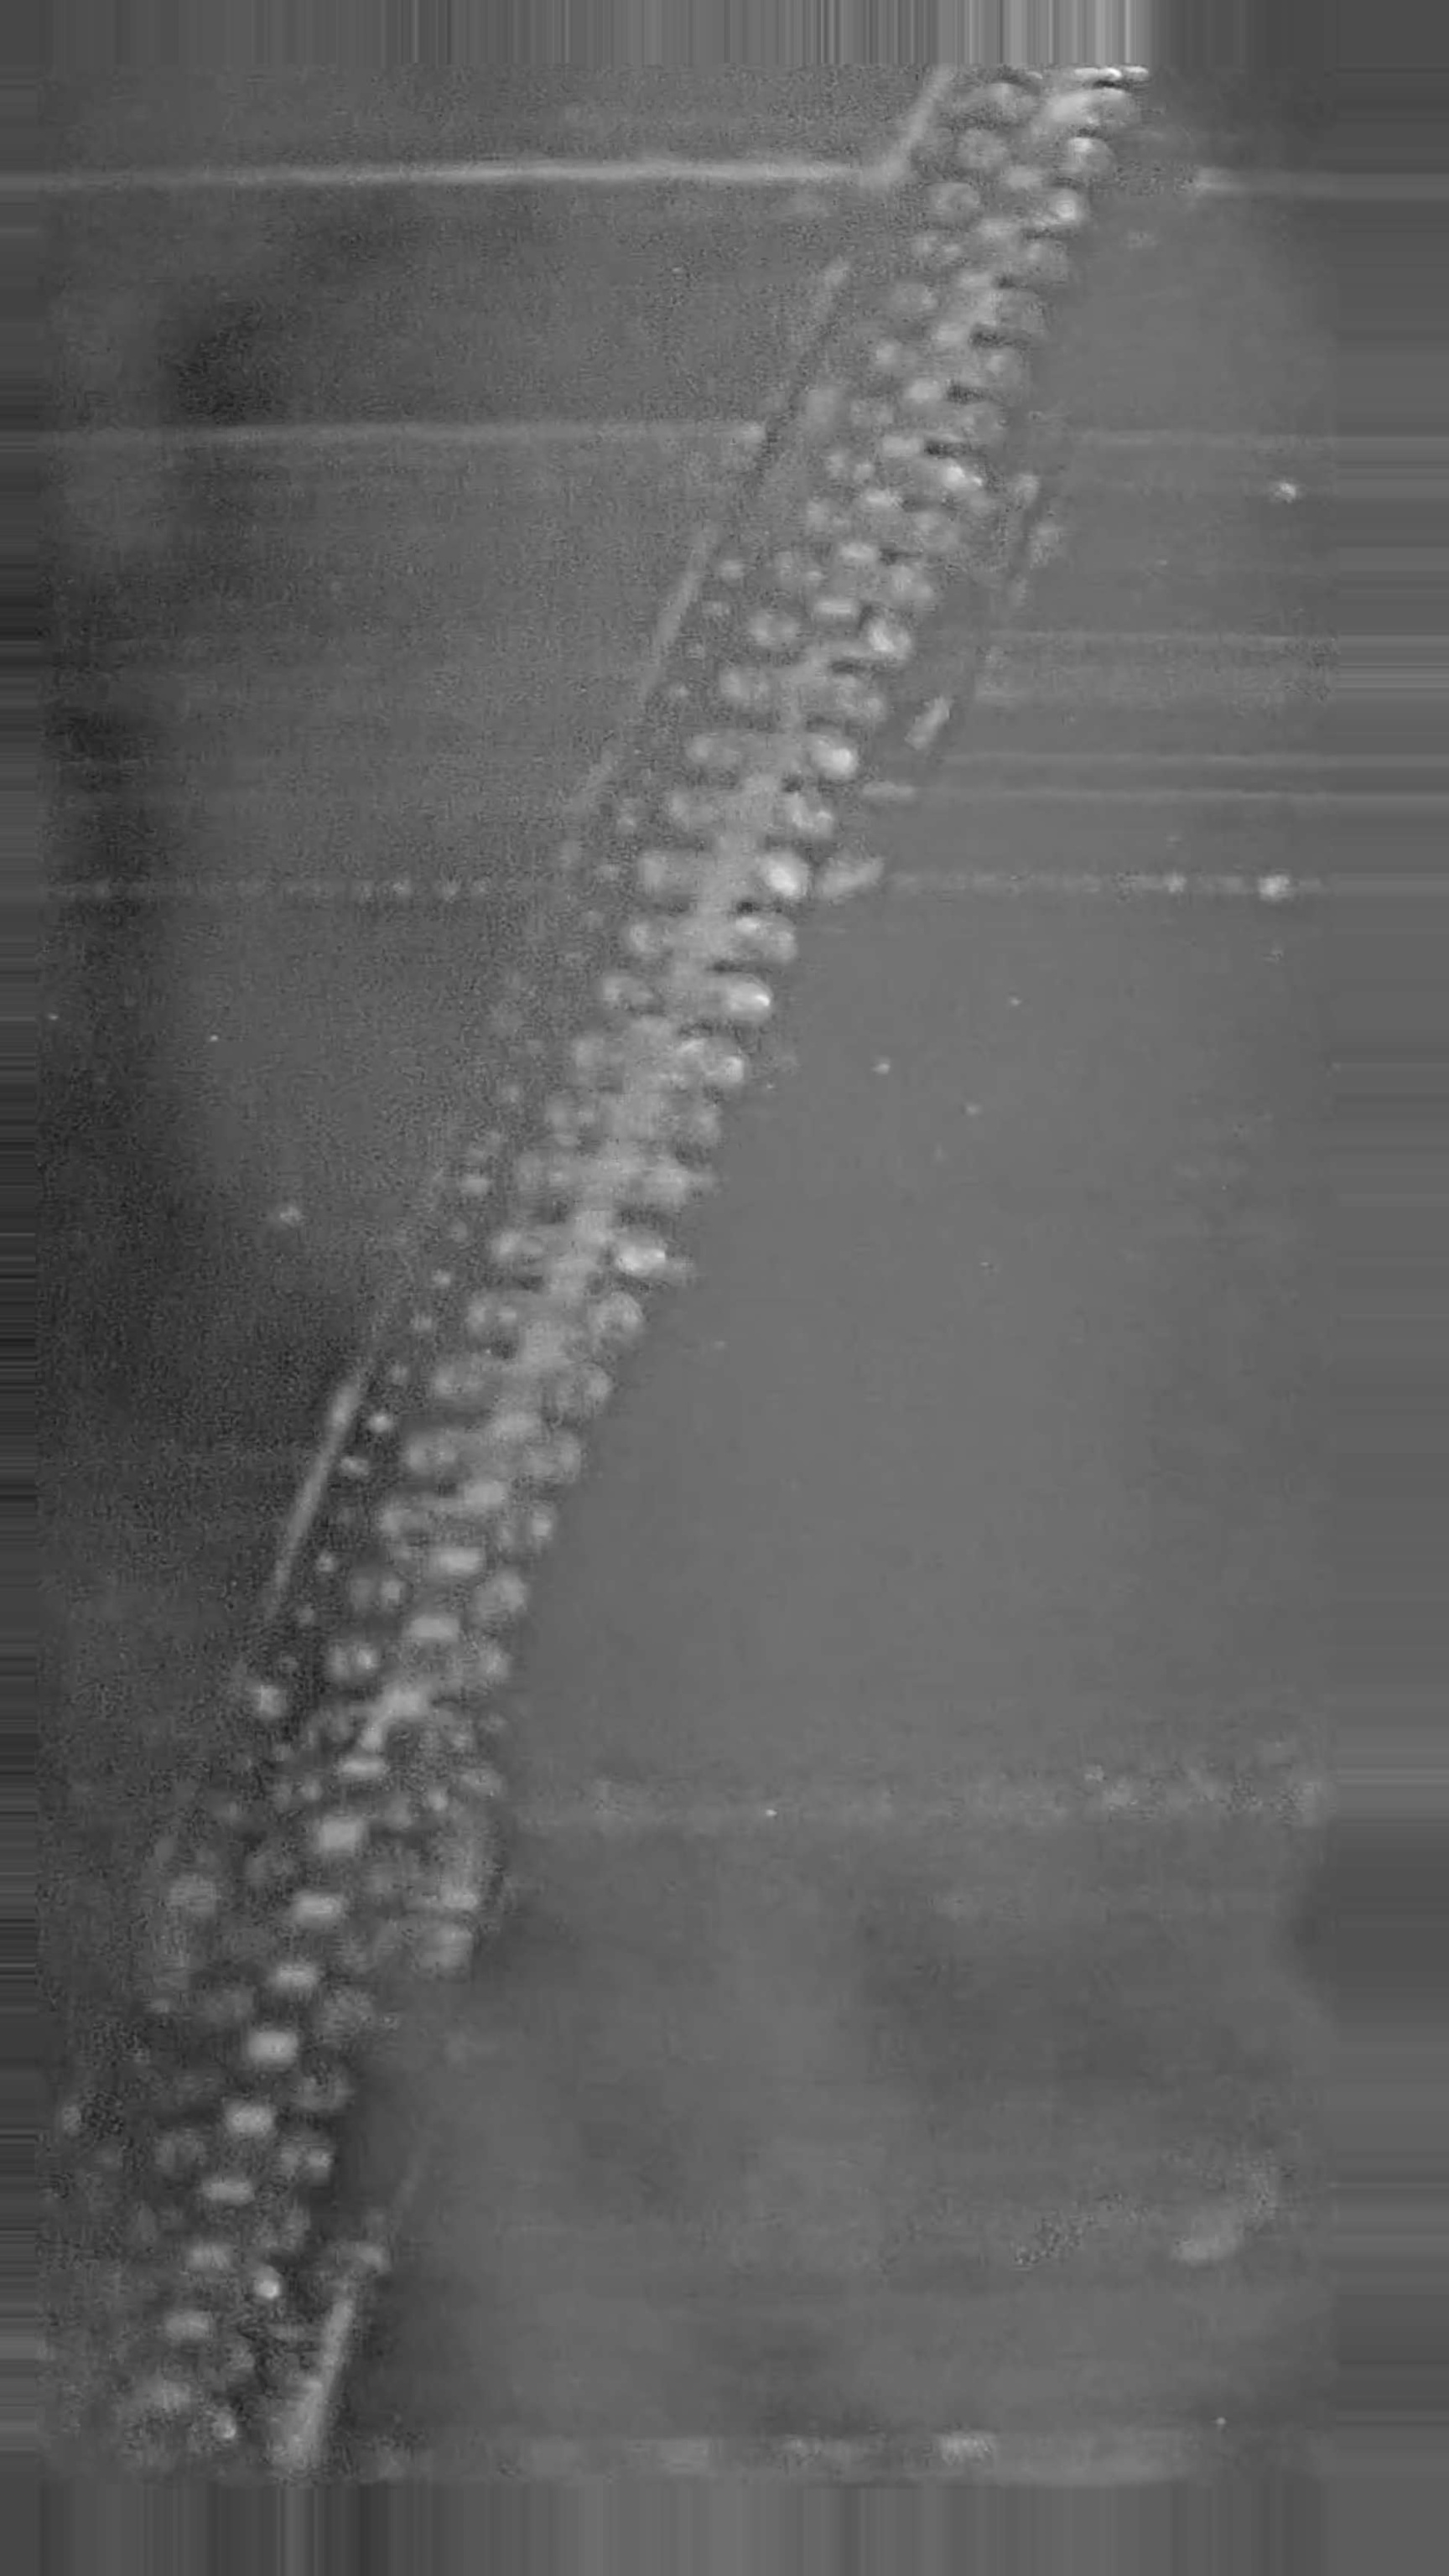splice_vulcanized: (32, 60, 1154, 2484)
